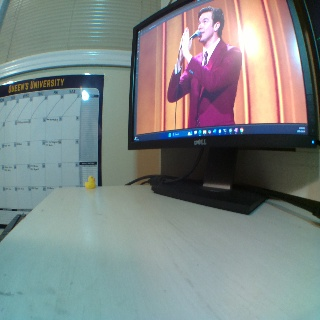duck_regular: (84, 174, 96, 188)
